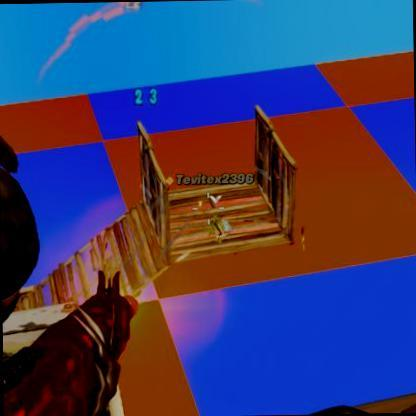person: (212, 214, 223, 240)
